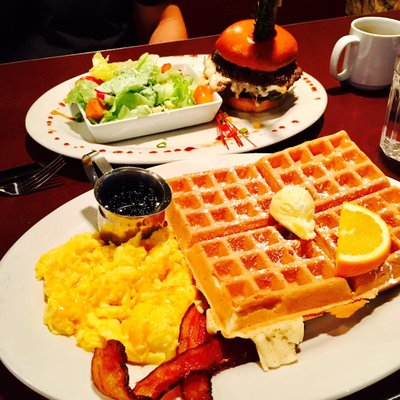burger: (1, 155, 67, 196)
pizza: (93, 166, 172, 246), (329, 16, 400, 93)
soup: (203, 14, 304, 113)
sushi: (63, 52, 224, 143), (93, 166, 172, 246)
taco: (334, 203, 391, 278)
